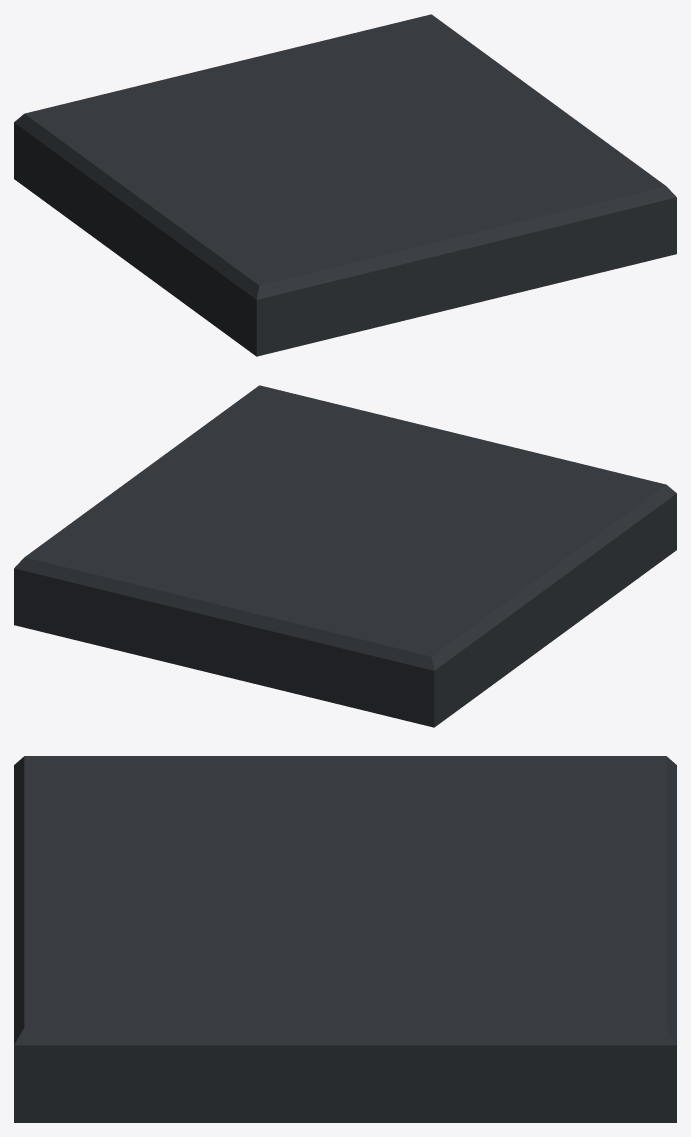
File: StoneTile_1.fbx
3 views of the same model, one above another, from view 1: azimuth 30°, elevation 25°; view 2: azimuth 150°, elevation 25°; view 3: azimuth 270°, elevation 25° (orthographic). The views are drawn at different scales.
Visible parts, largest first — view 1: StoneTile_1; view 2: StoneTile_1; view 3: StoneTile_1.
Part boxes in pixels (bbox=[...]): StoneTile_1: bbox=[14, 14, 676, 356]; StoneTile_1: bbox=[14, 385, 676, 727]; StoneTile_1: bbox=[14, 756, 676, 1122].
Bounding box in the file's own units: 100 × 15.15 × 100.
